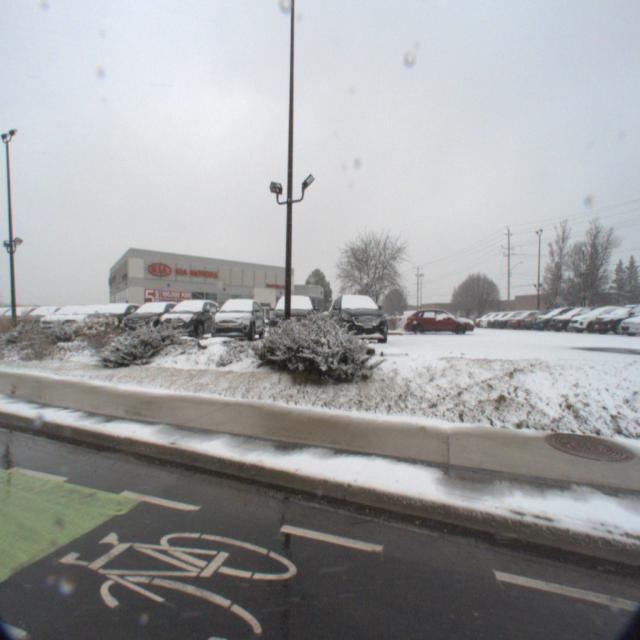Car: (326, 286, 394, 350), (151, 296, 225, 344), (112, 297, 190, 342), (263, 286, 318, 349), (71, 300, 153, 341), (50, 301, 134, 339), (205, 294, 268, 344), (27, 304, 107, 338), (1, 305, 81, 337), (402, 307, 474, 337), (542, 304, 614, 332), (525, 304, 591, 330), (396, 308, 446, 332)
